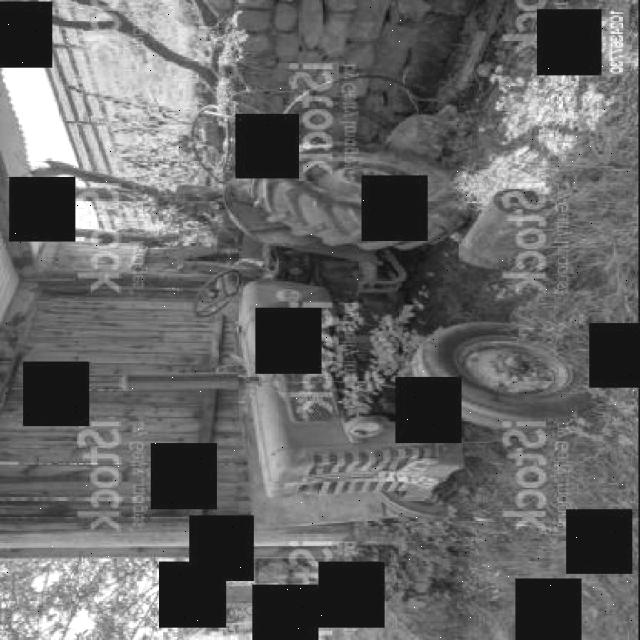Tratores - v5 YOLO V8L 2024-11-13: (146, 118, 608, 534)
